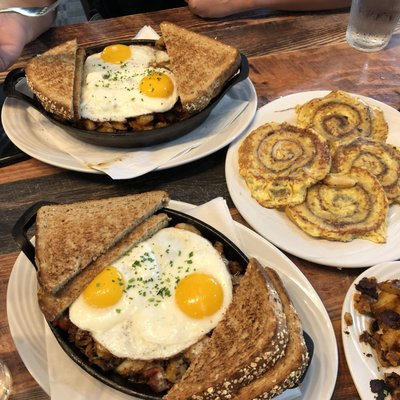pizza: (346, 0, 400, 52)
